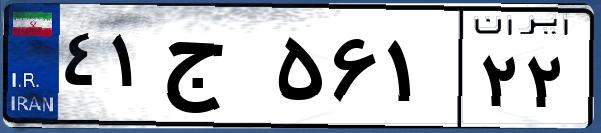1: (385, 28, 445, 110), (110, 28, 158, 98)
2: (475, 38, 525, 113), (525, 38, 570, 115)
4: (57, 26, 110, 100)
5: (270, 28, 330, 110)
6: (330, 28, 385, 110)
ج: (158, 20, 270, 120)
